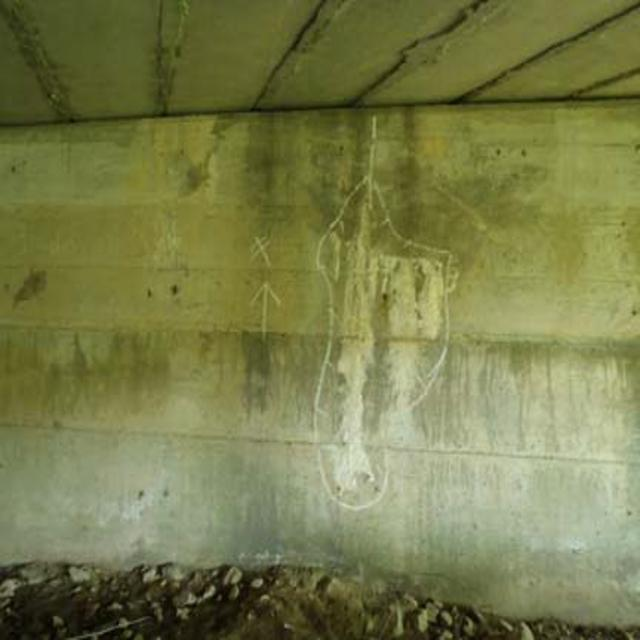freelime: (330, 237, 459, 509)
